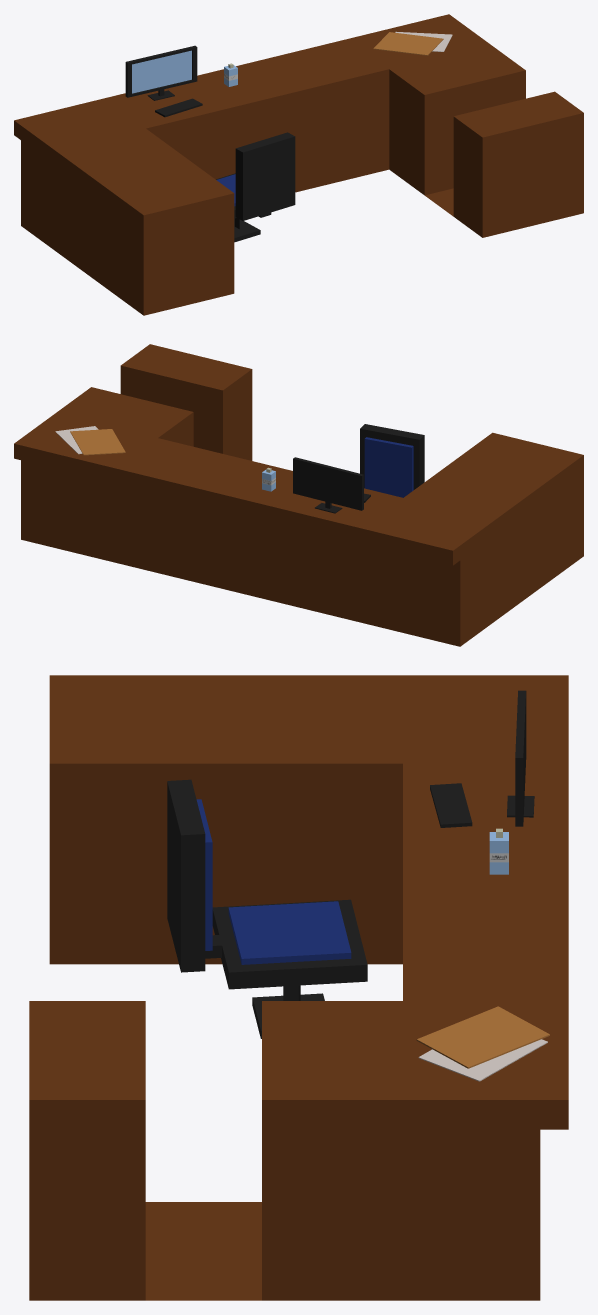
Rendered from OF_Table.fbx.
The picture shows the model from 3 angles, top to bottom: view 1: azimuth 30°, elevation 25°; view 2: azimuth 150°, elevation 25°; view 3: azimuth 270°, elevation 25°; orthographic projection. The views are drawn at different scales.
Visible parts, largest first — view 1: Cube.010; view 2: Cube.010; view 3: Cube.010.
Part boxes in pixels (<box>): Cube.010: <box>14,14,583,315</box>; Cube.010: <box>14,344,583,646</box>; Cube.010: <box>29,675,568,1300</box>.
Bounding box in the file's own units: 470 × 146 × 252.
8 materials, 2 textured.
